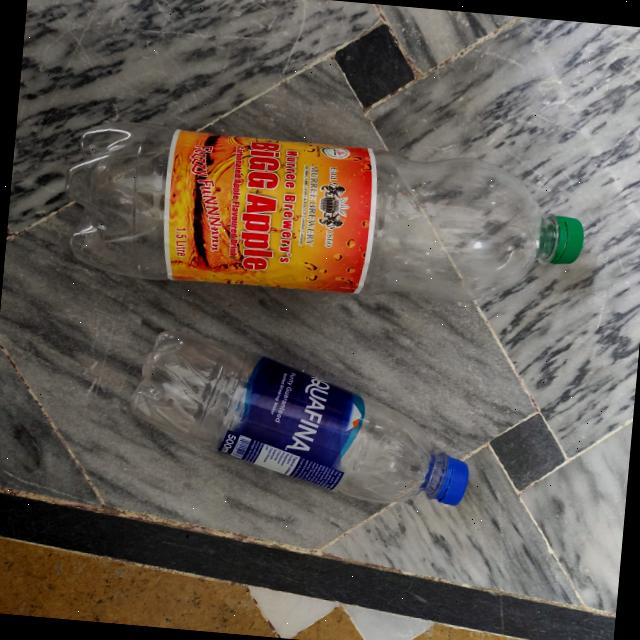bottle: (51, 107, 600, 325), (111, 351, 485, 514)
cap: (426, 446, 473, 509), (542, 211, 590, 271)
label: (155, 128, 379, 296), (224, 372, 360, 496)
